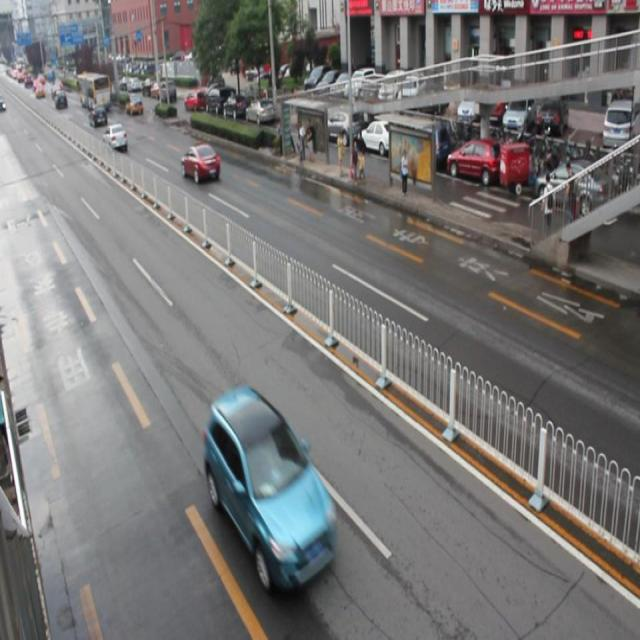car: (204, 390, 338, 588), (181, 144, 220, 183), (104, 122, 128, 149)
